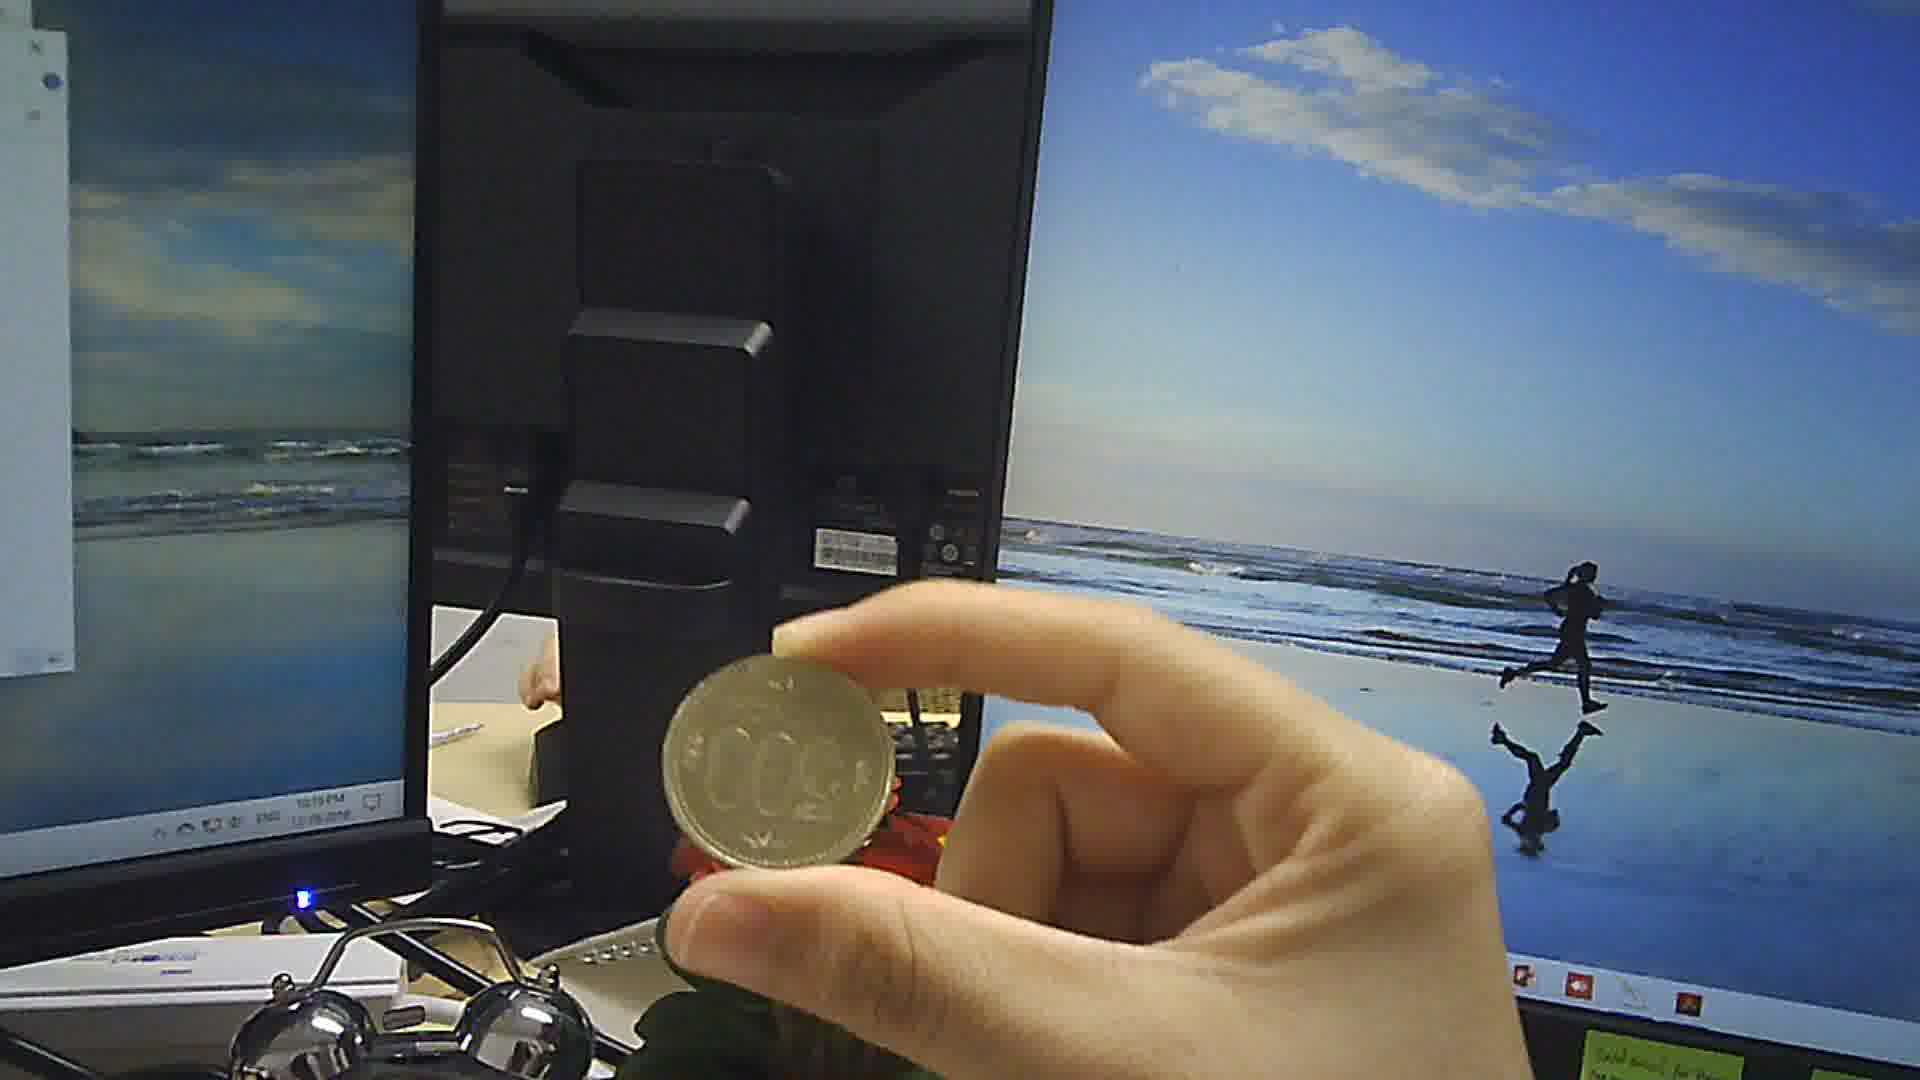500 Yen: (665, 657, 906, 866)
